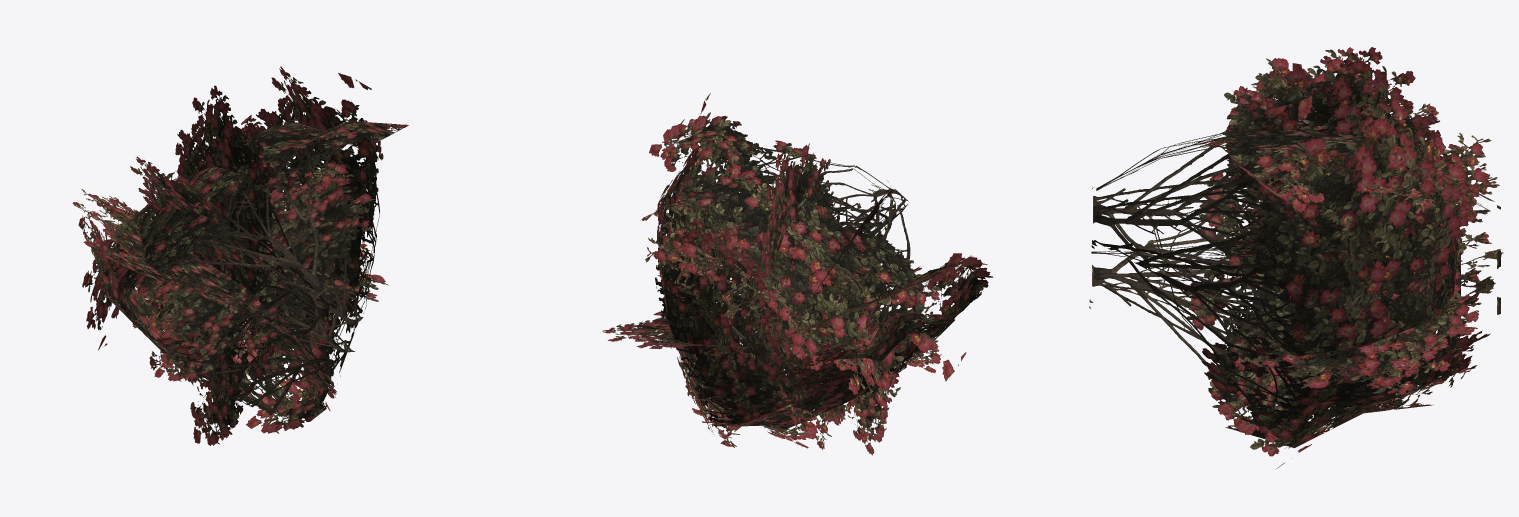
Rendered from fern_2.obj.
The picture shows the model from 3 angles, left to right: view 1: azimuth 30°, elevation 25°; view 2: azimuth 150°, elevation 25°; view 3: azimuth 270°, elevation 25°; orthographic projection. The views are drawn at different scales.
Parts seen in each view (by area): view 1: fern_2; view 2: fern_2; view 3: fern_2.
Part boxes in pixels (bbox=[...]): fern_2: bbox=[72, 66, 408, 445]; fern_2: bbox=[602, 93, 992, 455]; fern_2: bbox=[1089, 47, 1503, 468].
Size of the model in its own units: 1.51 by 1.49 by 1.22.
